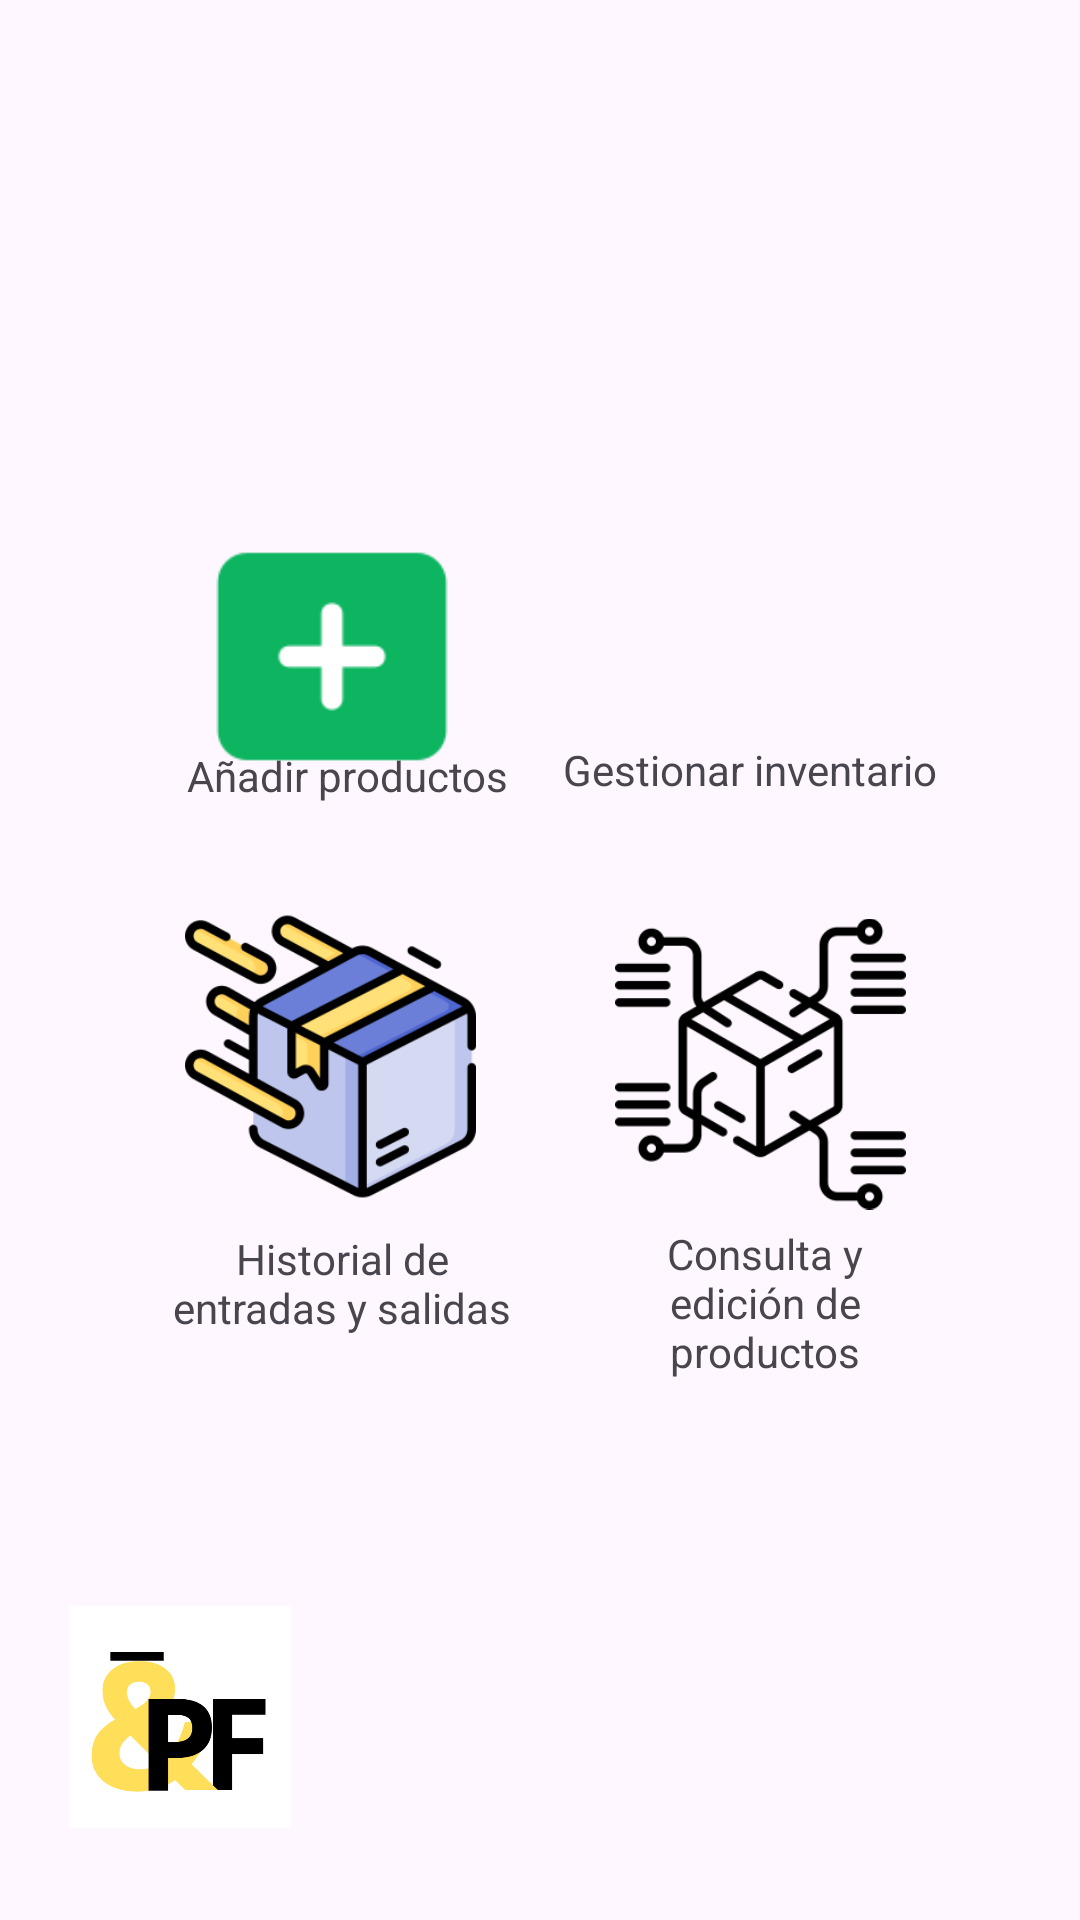

Named icons in this screenshot (1080*1920) and their bounding boxes, (x1, y1, x2, y2):
entrega: (185, 915, 476, 1198)
especificacion: (615, 919, 906, 1210)
